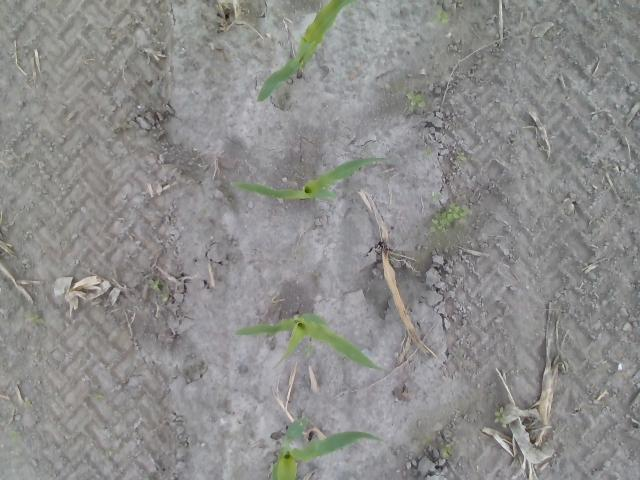Maize: (257, 0, 358, 106), (235, 312, 388, 374), (269, 417, 386, 480), (230, 156, 390, 202)
Weeds: (428, 202, 472, 234), (148, 278, 170, 302), (406, 91, 426, 113), (434, 8, 452, 24), (493, 407, 506, 424), (439, 443, 454, 457), (24, 314, 44, 324), (112, 123, 132, 132), (304, 342, 314, 358), (9, 430, 21, 443), (90, 392, 104, 402), (428, 192, 442, 200), (457, 152, 468, 161), (425, 149, 433, 158), (296, 249, 302, 258), (23, 402, 32, 407), (390, 257, 396, 263), (6, 246, 12, 252), (108, 450, 113, 456), (142, 477, 150, 480)
